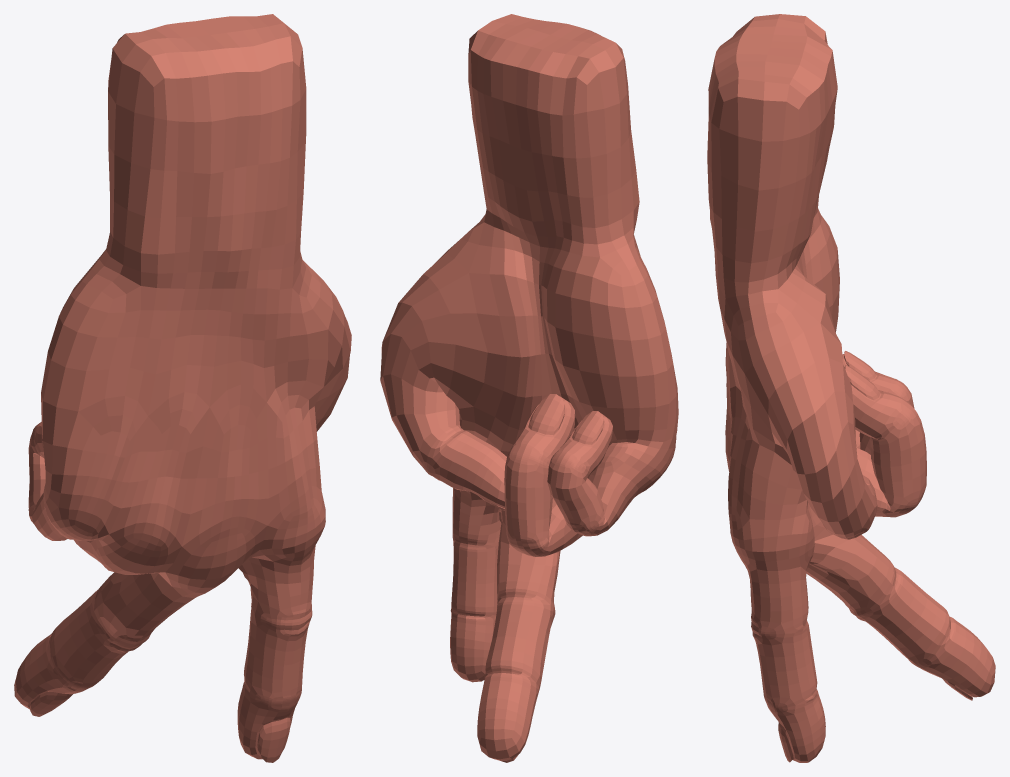
Rendered from pay.glb.
The picture shows the model from 3 angles, left to right: view 1: azimuth 30°, elevation 25°; view 2: azimuth 150°, elevation 25°; view 3: azimuth 270°, elevation 25°; orthographic projection. The views are drawn at different scales.
Visible parts, largest first — view 1: ZBrushPolyMesh3D; view 2: ZBrushPolyMesh3D; view 3: ZBrushPolyMesh3D.
Part boxes in pixels (x1=…): ZBrushPolyMesh3D: x1=14, y1=14, x2=351, y2=762; ZBrushPolyMesh3D: x1=380, y1=14, x2=678, y2=762; ZBrushPolyMesh3D: x1=707, y1=14, x2=995, y2=762.
Size of the model in its own units: 2.23 by 5.1 by 1.94.
